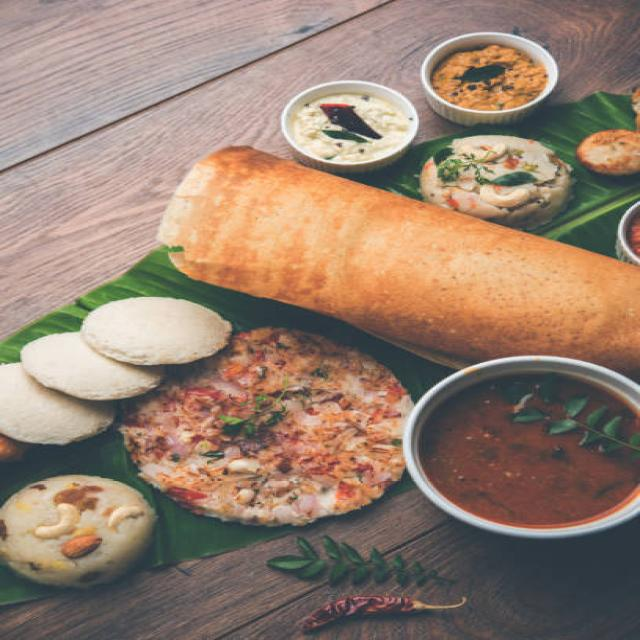DOSA: (160, 151, 635, 369), (135, 333, 404, 520)
IDLI: (0, 298, 230, 445)
KURMA: (424, 384, 626, 526)
RED CHUTNEY: (425, 44, 541, 109)
WHITE CHUTNEY: (297, 97, 403, 160)
